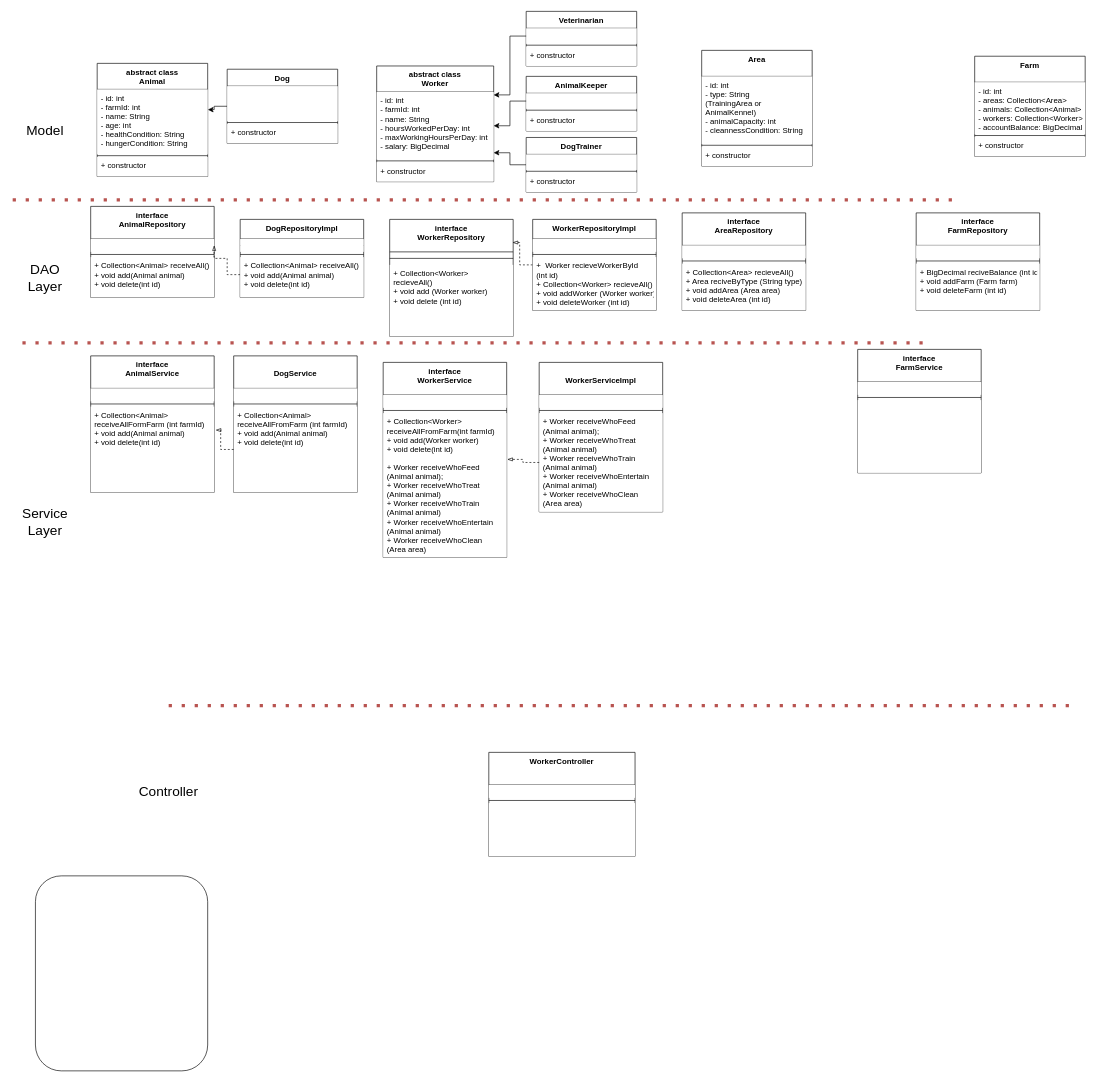
Image size: 1097x1082. Some labels were removed from this diagram. The shapes that lost their labels are listed below. From the top down, each one's centre as x and y in pixels, then its label:
At (282,103): "- specializition: String - levelOfTraining: int - dogIncome: BigDecimal".
At (919,436): "+ Farm receiveById(int id)".
At (561,829): "+ startWorkingDay()".
At (121,973): "All URLs GET /farm/new-day".
